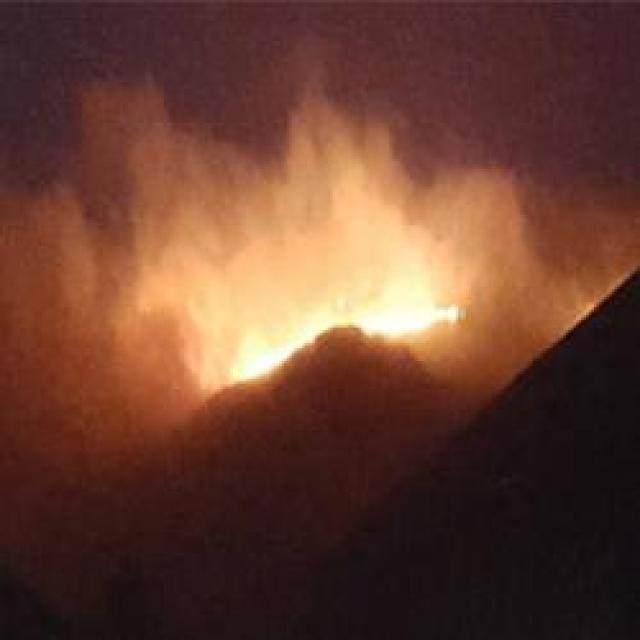Fire: (139, 206, 457, 390)
Smoke: (58, 44, 440, 190), (4, 168, 132, 418), (478, 172, 618, 328)
